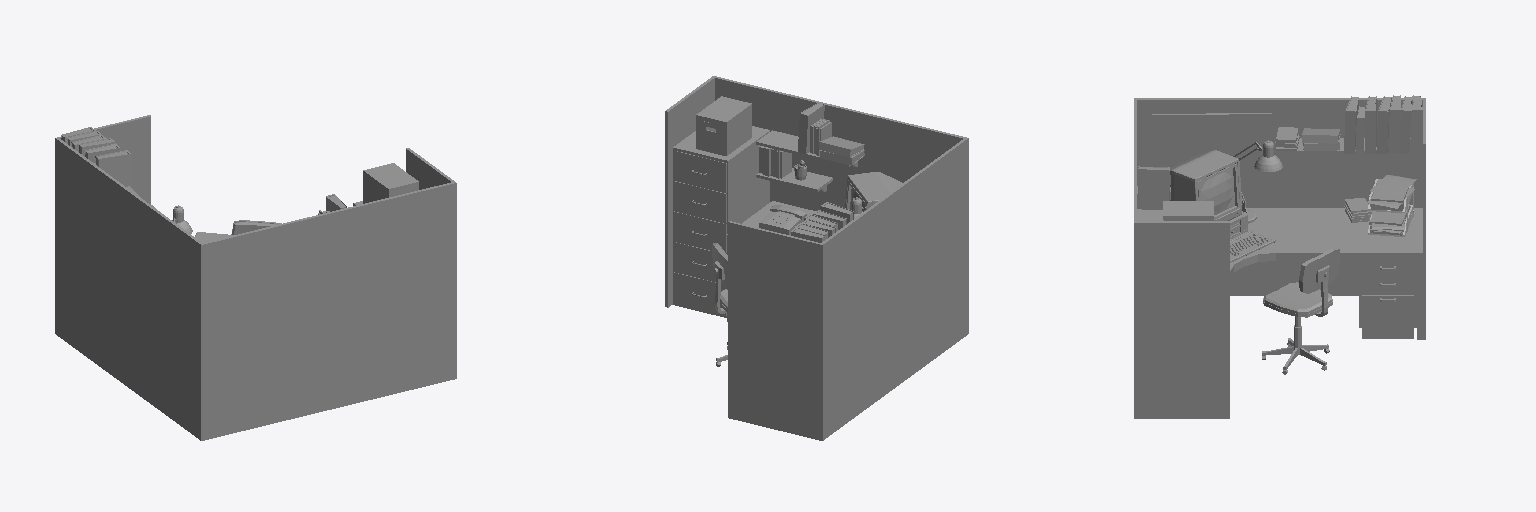
The model's file is clean_desk.obj.
3 renders of one model, left to right at view 1: azimuth 30°, elevation 25°; view 2: azimuth 150°, elevation 25°; view 3: azimuth 270°, elevation 25°, orthographic.
Visible parts, largest first — view 1: Walls_Cube.139, Box02Cap_Cube.227, File06_Cube.145, Box02_Cube.226; view 2: Walls_Cube.139, FileStorage_Cube.143, Box02_Cube.226, Monitor_Cylinder:021_Cylinder:043, Box02Cap_Cube.227, Stool_Cube.133, Telephone_Cube.021, Shelf02_Cube.019, Shelf03_Cube.025, File04_Cube.036, File11_Cube.157, FileStack02_Cube.013 (+1 smaller); view 3: Walls_Cube.139, Table_Plane.024, PinBoard_Cube.016, Drawer_Cube, Stool_Cube.133, Monitor_Cylinder:021_Cylinder:043, PaperStack.004_Cube.026, File04_Cube.036, Box02Cap_Cube.227, TableLamp_Cylinder.004, Keyboard_Cylinder:020_Cylinder:044, File08_Cube.147 (+7 smaller).
Boxes of the visible parts, x1=… form: Walls_Cube.139: x1=55, y1=115, x2=456, y2=440; Box02Cap_Cube.227: x1=363, y1=163, x2=418, y2=193; File06_Cube.145: x1=95, y1=150, x2=131, y2=187; Box02_Cube.226: x1=363, y1=175, x2=418, y2=203; Walls_Cube.139: x1=665, y1=76, x2=968, y2=440; FileStorage_Cube.143: x1=673, y1=126, x2=769, y2=317; Box02_Cube.226: x1=696, y1=109, x2=751, y2=155; Monitor_Cylinder:021_Cylinder:043: x1=845, y1=172, x2=902, y2=211; Box02Cap_Cube.227: x1=696, y1=96, x2=751, y2=126; Stool_Cube.133: x1=712, y1=243, x2=727, y2=366; Telephone_Cube.021: x1=759, y1=205, x2=806, y2=234; Shelf02_Cube.019: x1=756, y1=130, x2=864, y2=166; Shelf03_Cube.025: x1=756, y1=168, x2=832, y2=191; File04_Cube.036: x1=798, y1=102, x2=824, y2=153; File11_Cube.157: x1=819, y1=136, x2=864, y2=157; FileStack02_Cube.013: x1=810, y1=119, x2=831, y2=155; Walls_Cube.139: x1=1134, y1=98, x2=1425, y2=418; Table_Plane.024: x1=1230, y1=208, x2=1422, y2=339; PinBoard_Cube.016: x1=1152, y1=113, x2=1272, y2=188; Drawer_Cube: x1=1359, y1=261, x2=1416, y2=338; Stool_Cube.133: x1=1262, y1=248, x2=1339, y2=374; Monitor_Cylinder:021_Cylinder:043: x1=1170, y1=150, x2=1241, y2=220; PaperStack.004_Cube.026: x1=1368, y1=175, x2=1416, y2=235; File04_Cube.036: x1=1137, y1=166, x2=1169, y2=209; Box02Cap_Cube.227: x1=1163, y1=201, x2=1213, y2=219; TableLamp_Cylinder.004: x1=1233, y1=140, x2=1282, y2=223; Keyboard_Cylinder:020_Cylinder:044: x1=1230, y1=231, x2=1275, y2=262; File08_Cube.147: x1=1365, y1=96, x2=1376, y2=153.
Size of the model in its own units: 10.26 by 7.72 by 10.19.